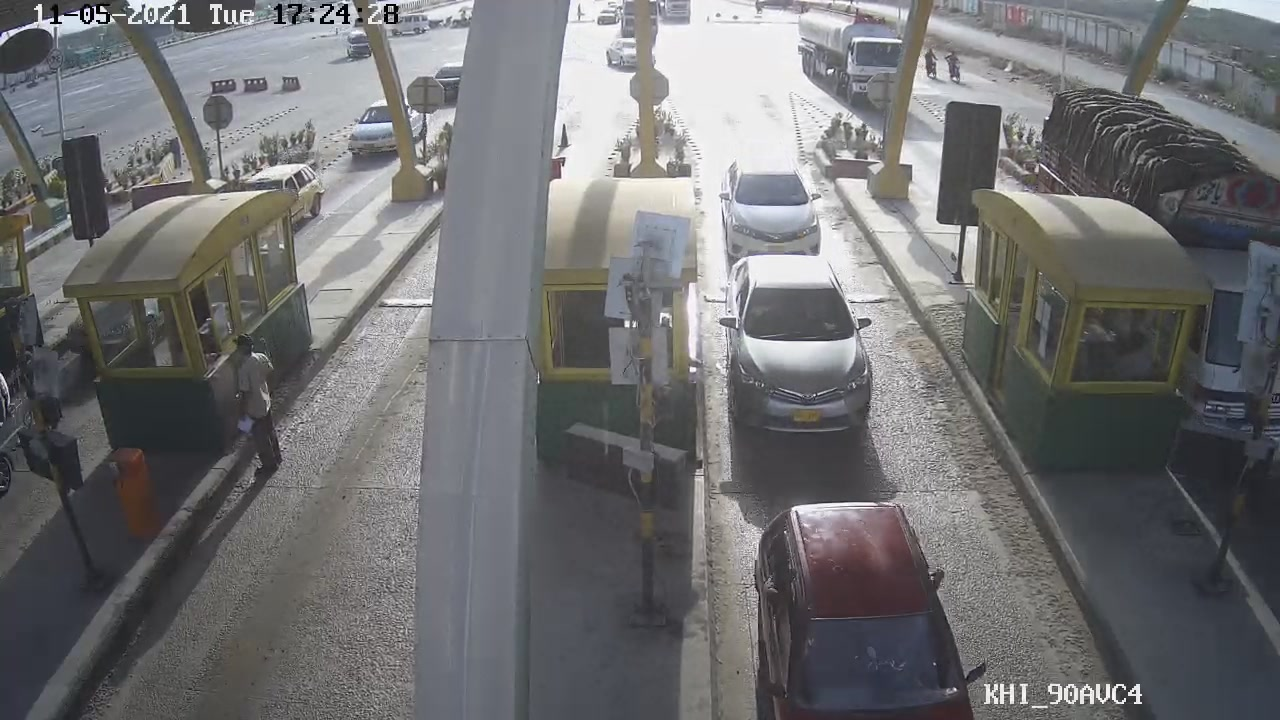F1: (700, 245, 909, 440)
